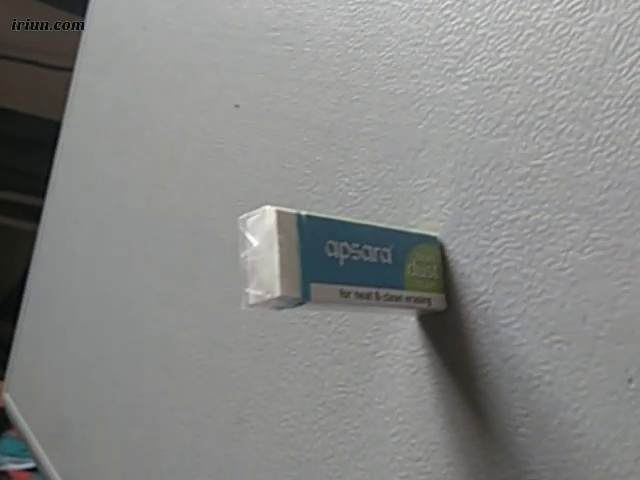Eraser: (225, 203, 456, 323)
